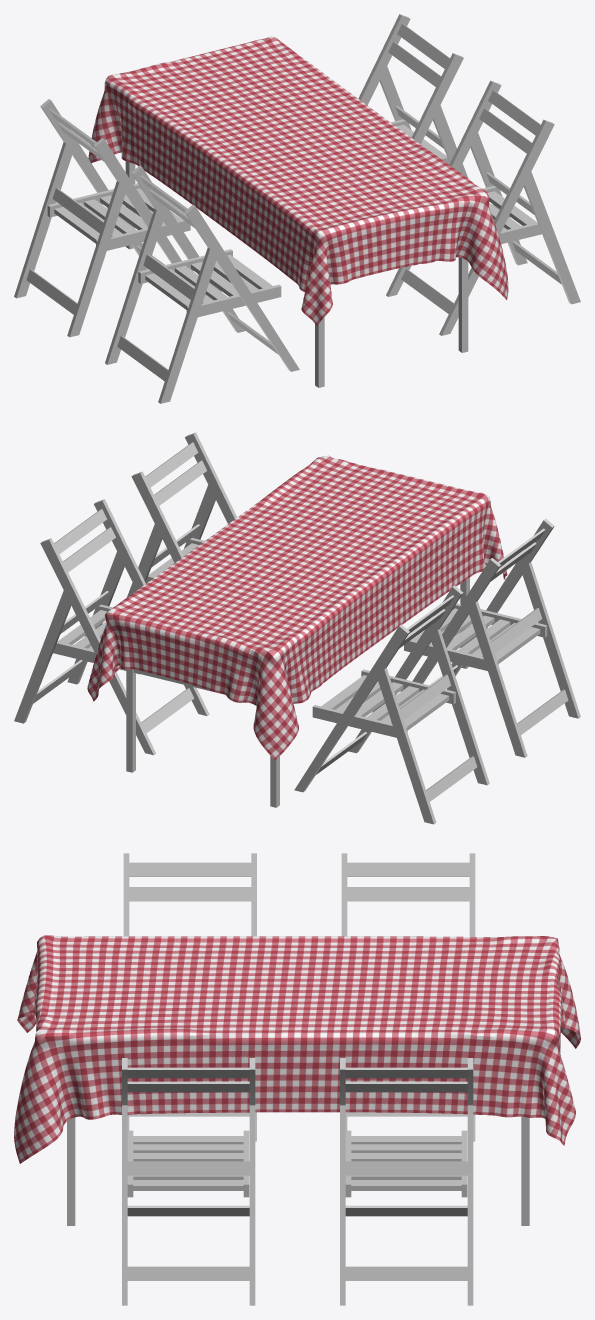
File: Picnic Table Chairs.fbx
The picture shows the model from 3 angles, top to bottom: view 1: azimuth 30°, elevation 25°; view 2: azimuth 150°, elevation 25°; view 3: azimuth 270°, elevation 25°; orthographic projection. The views are drawn at different scales.
Parts seen in each view (by area): view 1: Plane, chair_2, chair_1, chair, chair_2_2, table_2; view 2: Plane, chair_1, chair_2, chair_2_2, chair, table_2; view 3: Plane, chair, chair_2_2, chair_1, chair_2, table_2.
Boxes of the visible parts, box(x1,y1,x2,y2) form: Plane: box(88, 36, 508, 325); chair_2: box(105, 165, 299, 403); chair_1: box(14, 99, 190, 337); chair: box(386, 80, 580, 335); chair_2_2: box(358, 14, 468, 178); table_2: box(125, 161, 468, 387); Plane: box(87, 455, 507, 760); chair_1: box(294, 585, 489, 824); chair_2: box(404, 518, 580, 757); chair_2_2: box(14, 499, 209, 755); chair: box(126, 432, 237, 597); table_2: box(126, 577, 469, 807); Plane: box(14, 935, 580, 1163); chair: box(122, 1058, 255, 1305); chair_2_2: box(340, 1058, 473, 1305); chair_1: box(341, 853, 475, 1141); chair_2: box(123, 853, 256, 1141); table_2: box(67, 1116, 529, 1225).
Bounding box in the file's own units: 205 × 88.28 × 200.
Materials: 3 (1 with a texture image).
